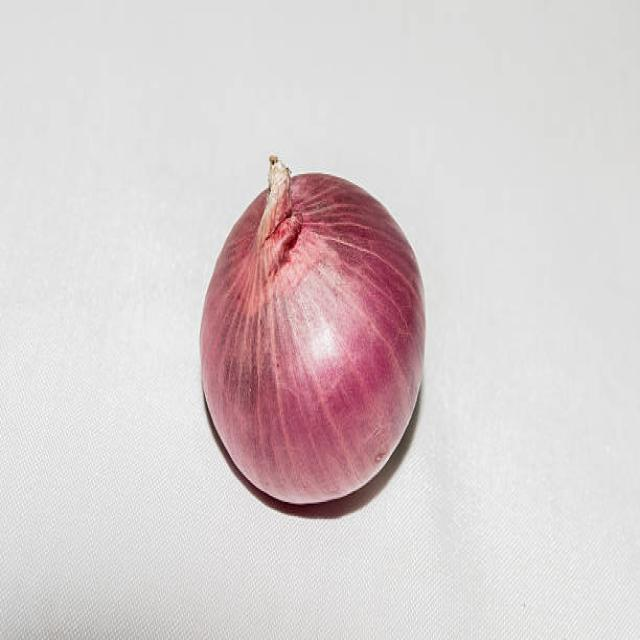onion: (202, 171, 430, 503)
